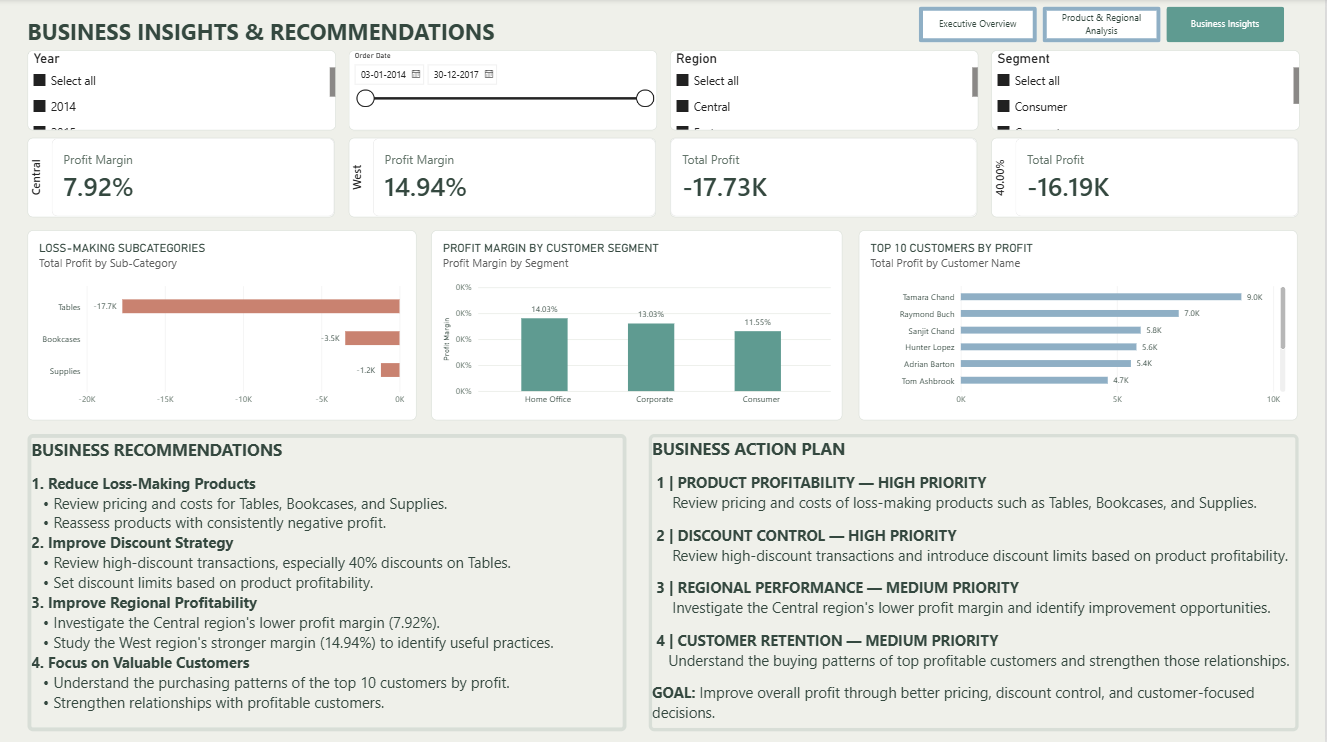

This screenshot's page, from the dashboard's own definition file:
{"tool":"powerbi","page":{"name":"\tBusiness Insights","canvas":[1920,1080],"ordinal":2},"visuals":[{"type":"textbox","box":[40,25,900,49],"z":0},{"type":"textbox","box":[40,72,900,25],"z":1},{"type":"pageNavigator","box":[1330,10,530.2,52.5],"z":2},{"type":"slicer","fields":{"Values":["superstore_cleaned.Year"]},"box":[40,75,446,116],"z":3},{"type":"slicer","fields":{"Values":["superstore_cleaned.Order Date"]},"box":[505,75,446,116],"z":4},{"type":"slicer","fields":{"Values":["superstore_cleaned.Region"]},"box":[970,75,446,116],"z":5},{"type":"slicer","fields":{"Values":["superstore_cleaned.Segment"]},"box":[1435.1,75,446,116],"z":6},{"type":"cardVisual","fields":{"Data":["superstore_cleaned.Profit Margin"],"Rows":["superstore_cleaned.Region"]},"box":[40,200,445,115],"z":7},{"type":"cardVisual","fields":{"Data":["superstore_cleaned.Profit Margin"],"Rows":["superstore_cleaned.Region"]},"box":[505,200,445,115],"z":8},{"type":"cardVisual","fields":{"Data":["superstore_cleaned.Total Profit"]},"box":[970,200,445,115],"z":9},{"type":"cardVisual","fields":{"Data":["superstore_cleaned.Total Profit"],"Rows":["superstore_cleaned.Discount"]},"box":[1435,200,445,115],"z":10},{"type":"clusteredBarChart","title":"LOSS-MAKING SUBCATEGORIES","fields":{"Category":["superstore_cleaned.Sub-Category"],"Y":["superstore_cleaned.Total Profit"]},"box":[39.8,334.8,562.8,275.1],"z":11},{"type":"clusteredColumnChart","title":"PROFIT MARGIN BY CUSTOMER SEGMENT","fields":{"Category":["superstore_cleaned.Segment"],"Y":["superstore_cleaned.Profit Margin"]},"box":[624.3,334.8,595.4,275.1],"z":12},{"type":"clusteredBarChart","title":"TOP 10 CUSTOMERS BY PROFIT","fields":{"Category":["superstore_cleaned.Customer Name"],"Y":["superstore_cleaned.Total Profit"]},"box":[1243.2,334.8,635.2,275.1],"z":13},{"type":"textbox","box":[39.8,629.8,866.8,430.7],"z":14},{"type":"textbox","box":[938.6,629.8,940.7,430.2],"z":15}]}

Visuals, with their boxes in screenshot pixels (x1, y1, x2, y2), scaled from the page's 1920x1080 canvas onto the 1327x742 screenshot:
textbox: 28:17:650:51
textbox: 28:49:650:67
pageNavigator: 919:7:1286:43
slicer - superstore_cleaned.Year: 28:52:336:131
slicer - superstore_cleaned.Order Date: 349:52:657:131
slicer - superstore_cleaned.Region: 670:52:979:131
slicer - superstore_cleaned.Segment: 992:52:1300:131
cardVisual - superstore_cleaned.Profit Margin x superstore_cleaned.Region: 28:137:335:216
cardVisual - superstore_cleaned.Profit Margin x superstore_cleaned.Region: 349:137:657:216
cardVisual - superstore_cleaned.Total Profit: 670:137:978:216
cardVisual - superstore_cleaned.Total Profit x superstore_cleaned.Discount: 992:137:1299:216
"LOSS-MAKING SUBCATEGORIES" clusteredBarChart: 28:230:416:419
"PROFIT MARGIN BY CUSTOMER SEGMENT" clusteredColumnChart: 431:230:843:419
"TOP 10 CUSTOMERS BY PROFIT" clusteredBarChart: 859:230:1298:419
textbox: 28:433:627:729
textbox: 649:433:1299:728
